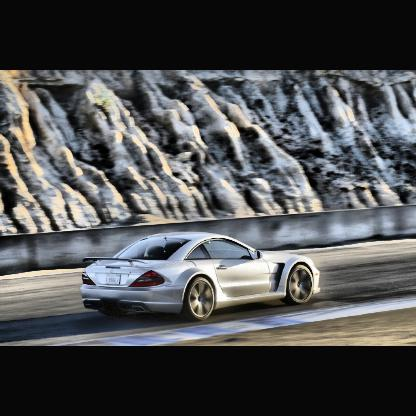Mercedes-Benz SL-Class Coupe 2009: (79, 233, 322, 324)
